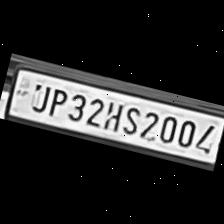0: (153, 110, 179, 144), (172, 114, 198, 148)
2: (135, 106, 161, 142), (82, 93, 106, 128)
3: (63, 88, 88, 124)
4: (191, 118, 217, 154)
H: (100, 97, 124, 132)
P: (43, 83, 69, 119)
S: (118, 101, 142, 135)
U: (26, 80, 51, 114)
